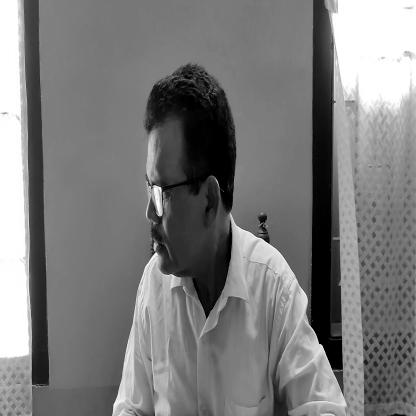Distracted: (142, 82, 237, 276)
